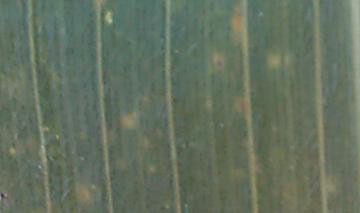tarspot: (215, 57, 223, 67), (1, 190, 7, 201), (170, 96, 176, 105)
